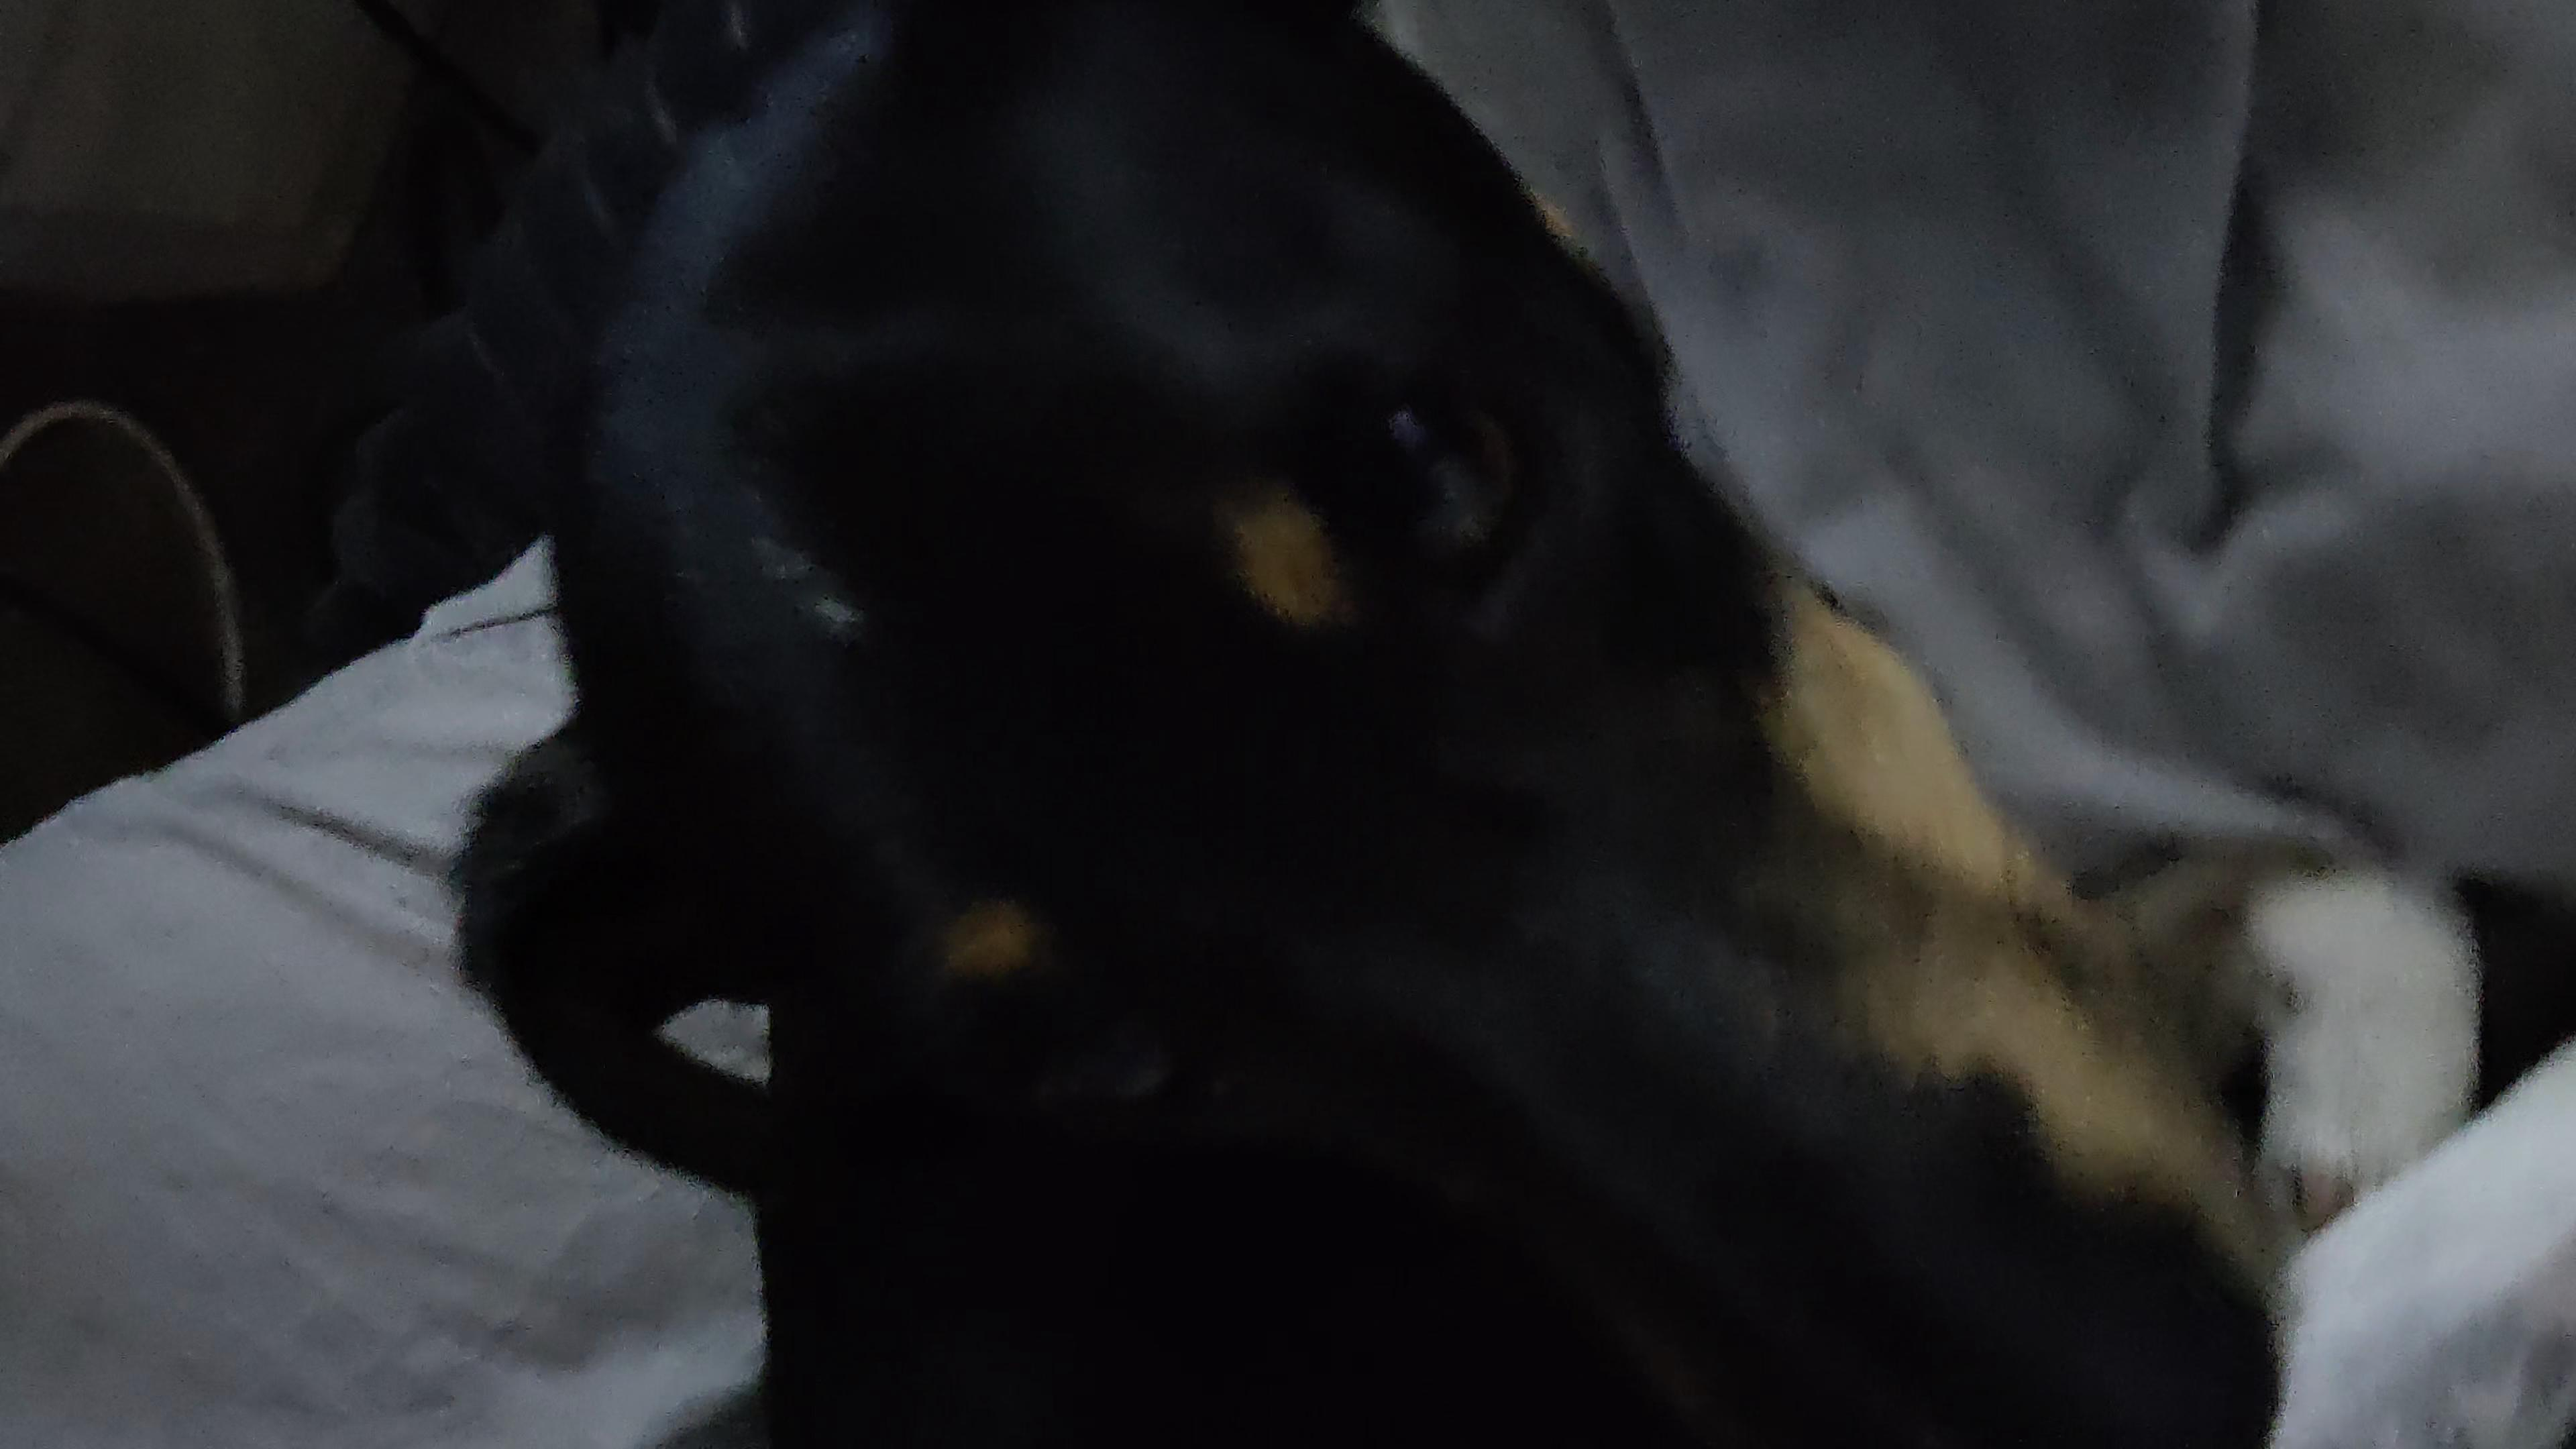Dog: (425, 0, 2576, 1449)
